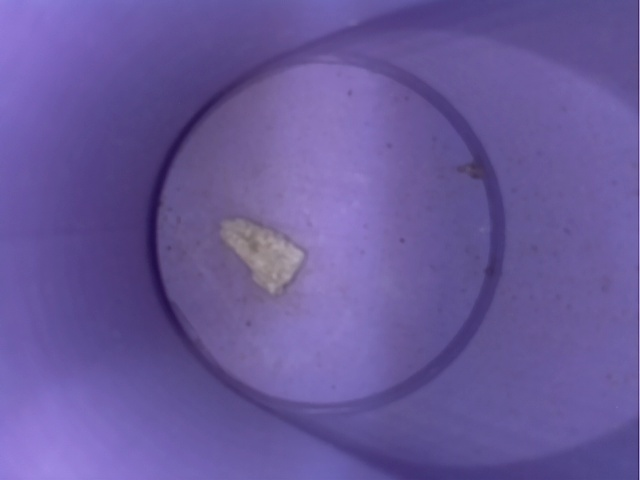caillou: (197, 200, 334, 302)
